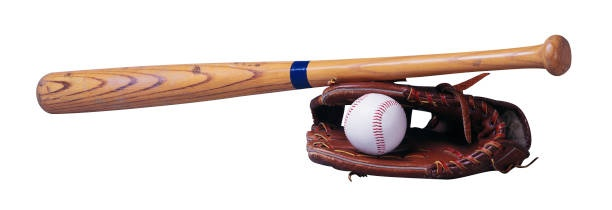bita: (37, 39, 577, 120)
